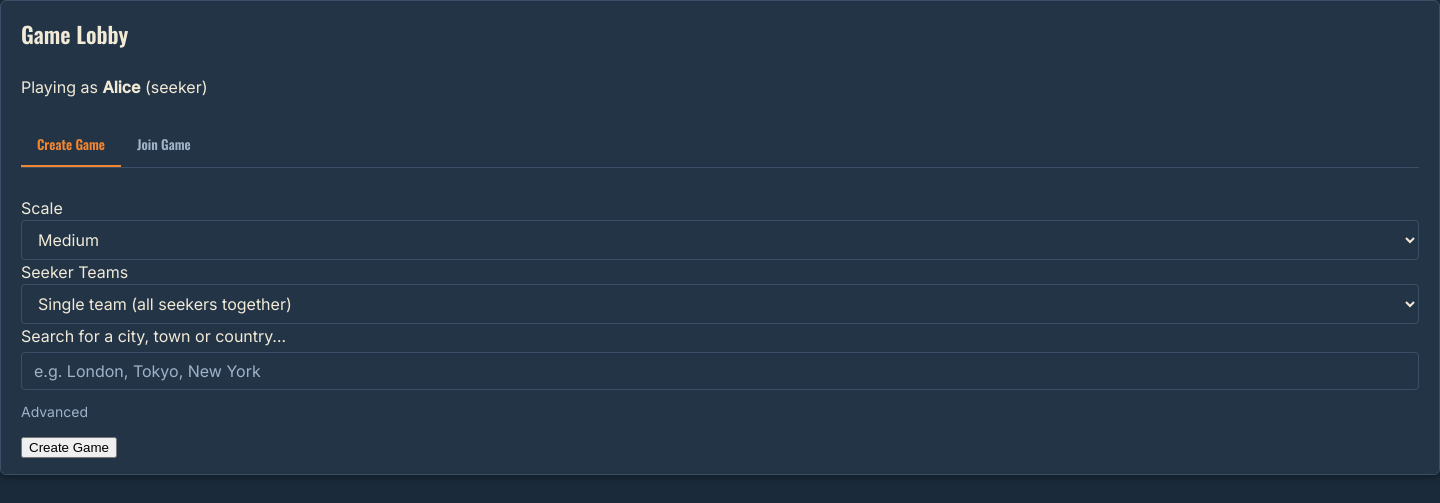
Test case: GameForm — location search (Task 142) › shows result dropdown with display_name entries after fetch resolves
Type "London" into the field labelled "Search for a city, town or country…" at (720, 371), box left=21, top=352, right=1419, bottom=390
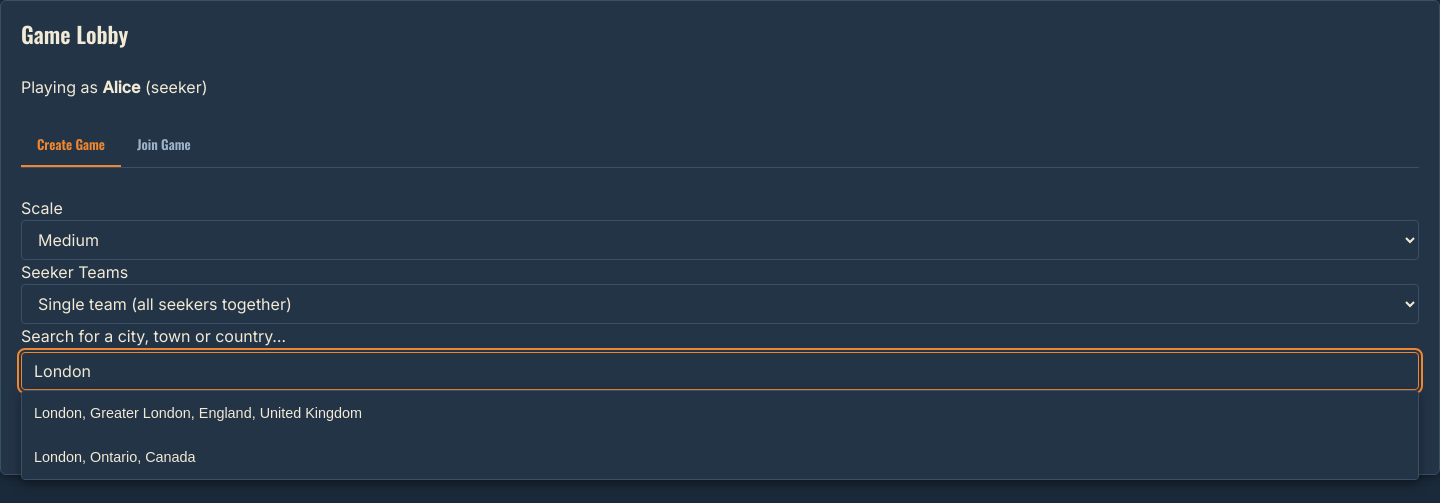
Now the list named "location results" is shown, box left=21, top=390, right=1419, bottom=480
Now the option "London, Greater London, England, United Kingdom" is shown, box left=22, top=391, right=1418, bottom=435
Now the option "London, Ontario, Canada" is shown, box left=22, top=435, right=1418, bottom=479
